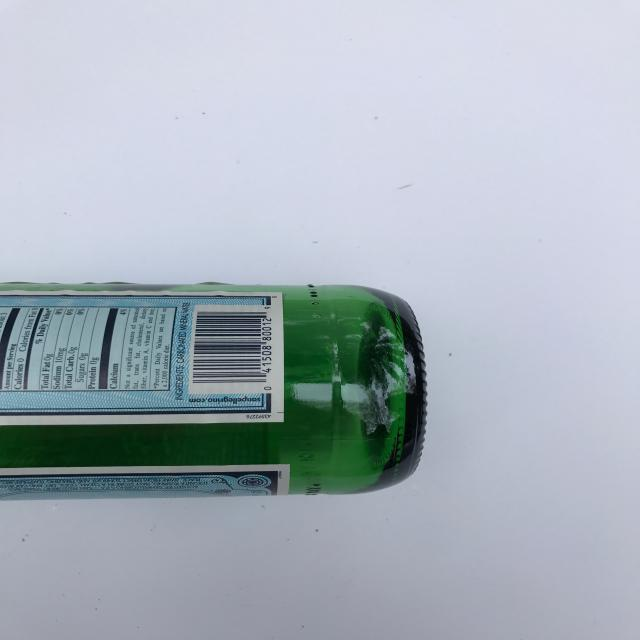glass: (1, 279, 428, 498)
